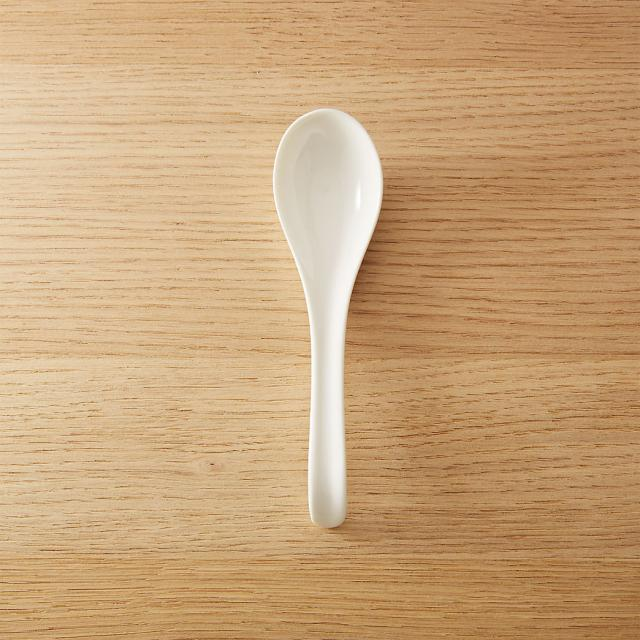spoon: (242, 87, 403, 540)
